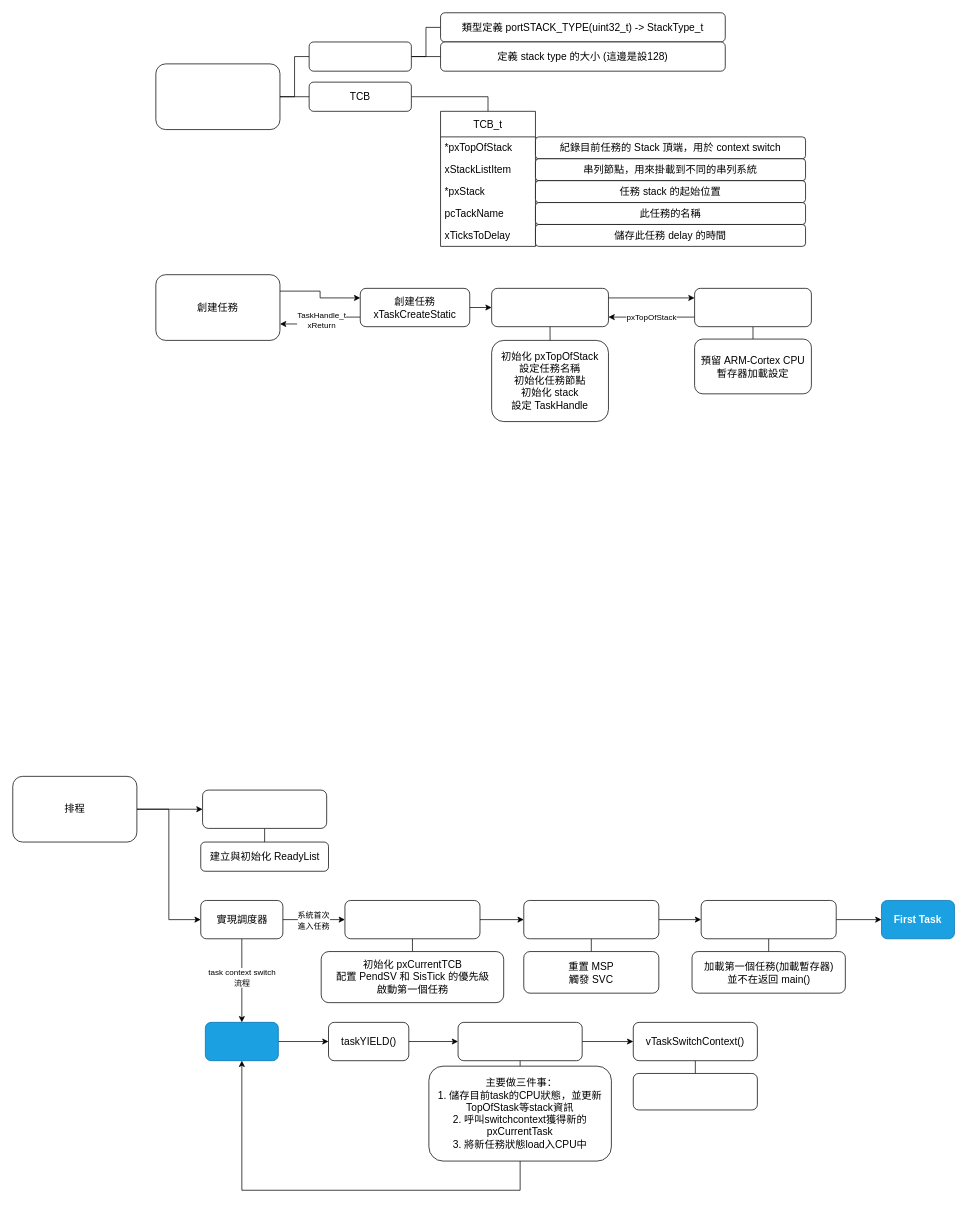
Some shapes in this 967 by 1209 pixel diagram are drawn without their labels. Here are the shapes that lost their labels. From the top down, the centre of each, then its label:
At point 359,56: "task stack".
At point 217,96: "任務體質".
At point 549,307: "初始化任務 prvInitialiseNewTask".
At point 752,307: "初始化 stack *pxPortInitialiseStack".
At point 264,808: "初始化就緒列表 prvInitialiseTaskLists()".
At point 412,919: "啟動調度器 vTaskStartScheduler()".
At point 591,919: "啟動調度器 prvStartFirstTask()".
At point 768,919: "vPortSVCHandler()".
At point 241,1041: "Task".
At point 519,1041: "xPortPendSVHandler()".
At point 695,1091: "利用readylist找出目前優先級最高之任務".
